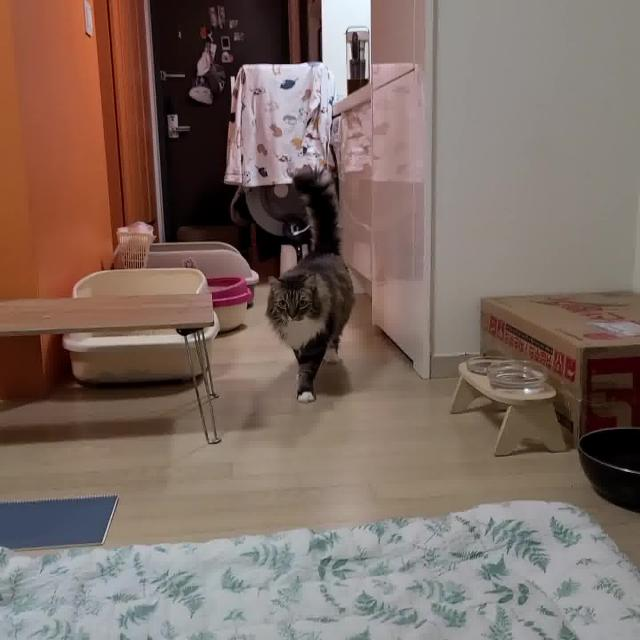cat: (248, 159, 377, 422)
